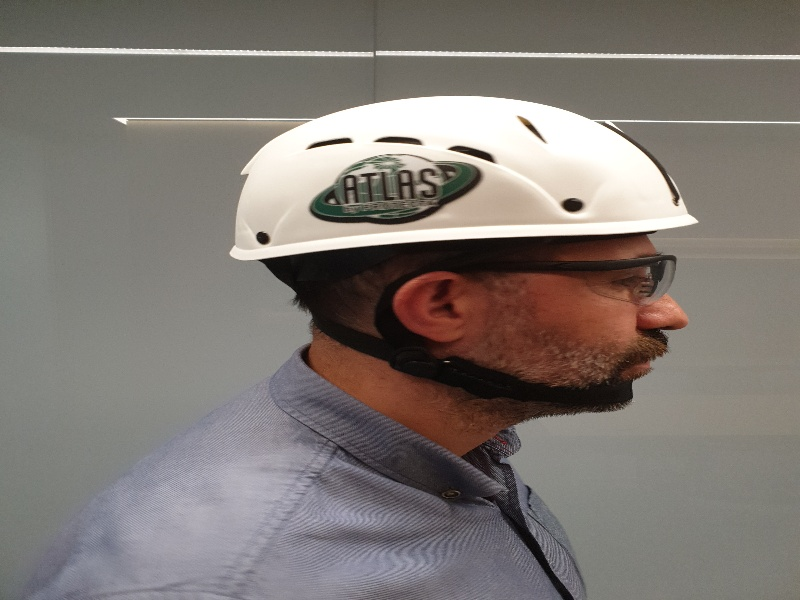Baret: (228, 95, 705, 261)
Gozluk: (432, 255, 679, 310)
